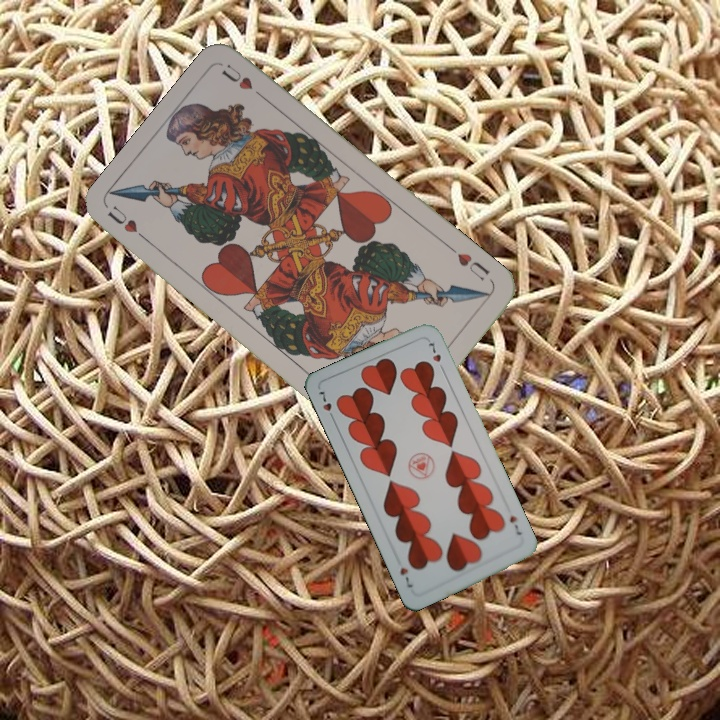H7: (314, 387, 338, 424), (505, 512, 524, 538)
HU: (103, 201, 154, 246), (453, 249, 493, 284)
